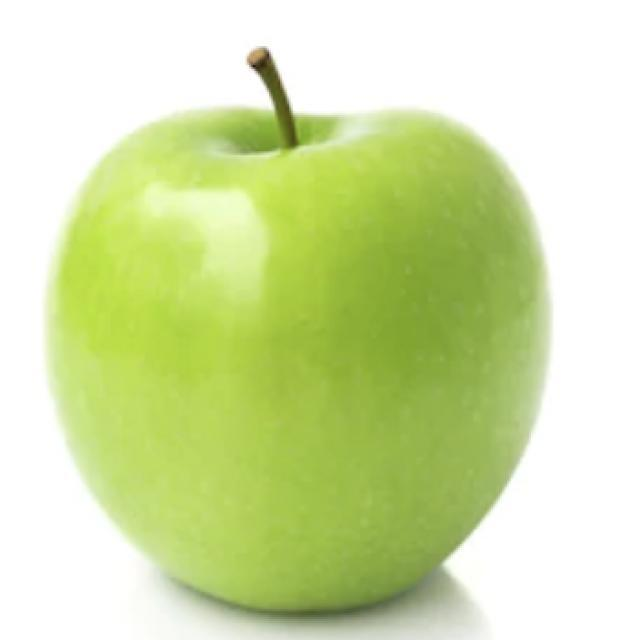Fresh Apple: (97, 113, 538, 605)
